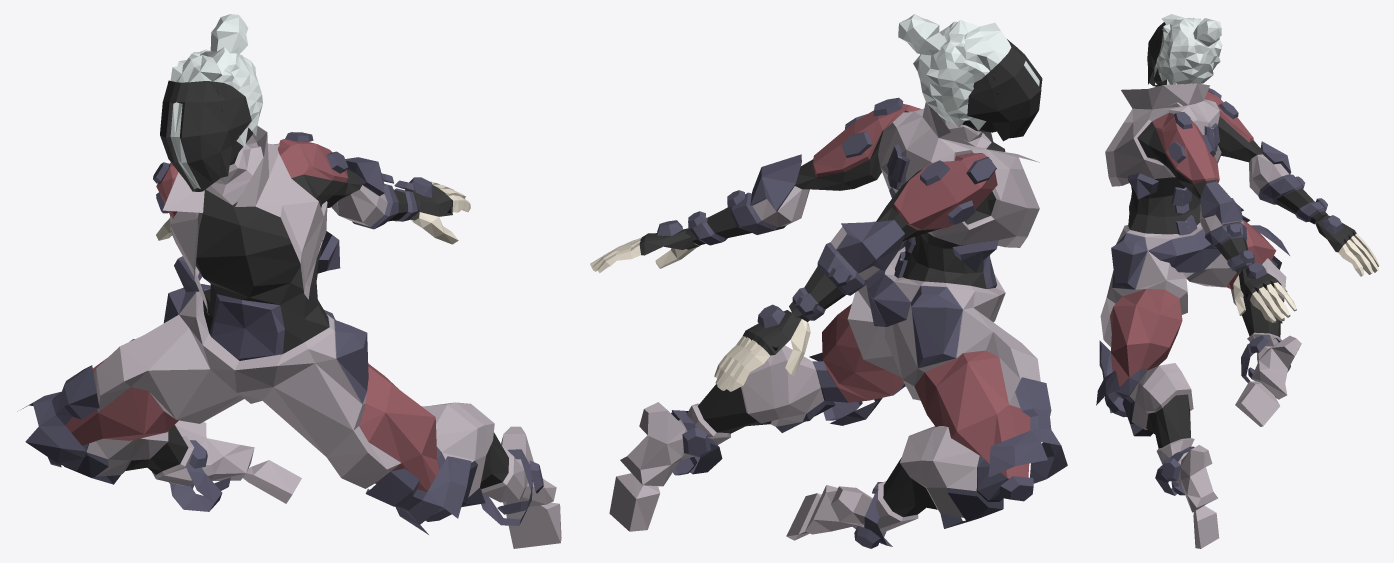
The model's file is model_LeapUp.obj.
The picture shows the model from 3 angles, left to right: view 1: azimuth 30°, elevation 25°; view 2: azimuth 150°, elevation 25°; view 3: azimuth 270°, elevation 25°; orthographic projection. The views are drawn at different scales.
Parts seen in each view (by area): view 1: obj_LeapUp_Cube.002; view 2: obj_LeapUp_Cube.002; view 3: obj_LeapUp_Cube.002.
Part boxes in pixels (bbox=[...]): obj_LeapUp_Cube.002: bbox=[17, 14, 561, 548]; obj_LeapUp_Cube.002: bbox=[590, 14, 1067, 548]; obj_LeapUp_Cube.002: bbox=[1096, 14, 1379, 548].
Bounding box in the file's own units: 3.78 × 4.28 × 2.62.
